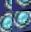mirror: (0, 11, 12, 32), (12, 0, 31, 11), (0, 0, 12, 11)
